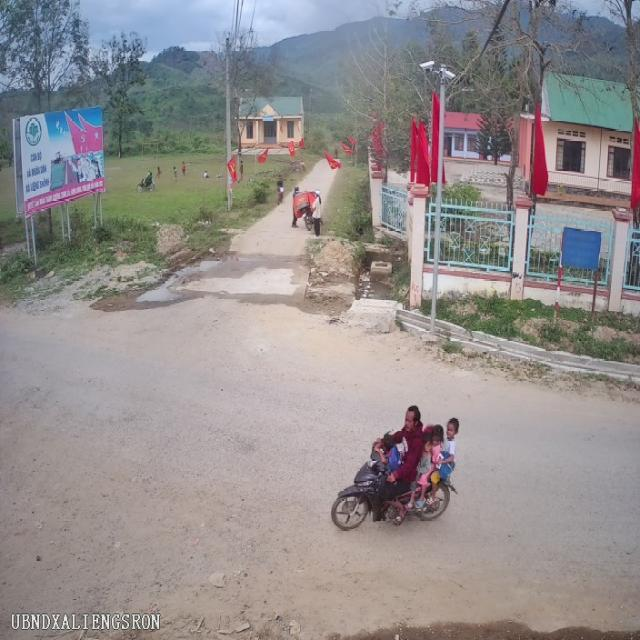without_helmet: (395, 389, 428, 439), (441, 416, 461, 450)
